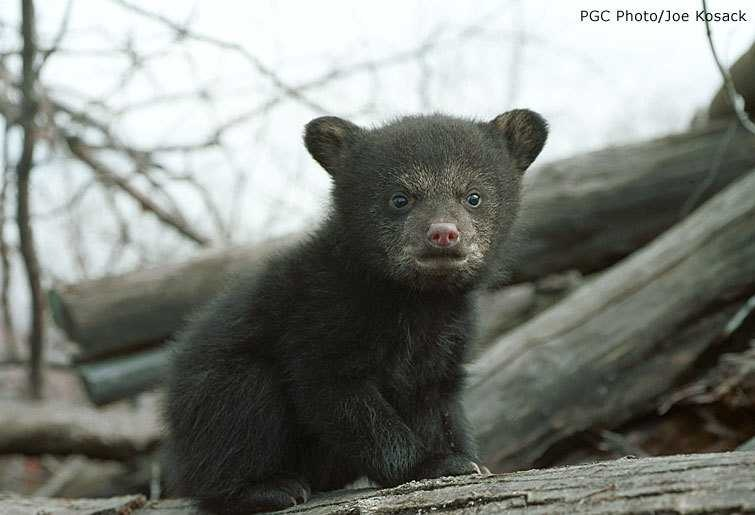bear: (375, 161, 503, 289), (282, 90, 410, 218), (448, 69, 576, 197)
